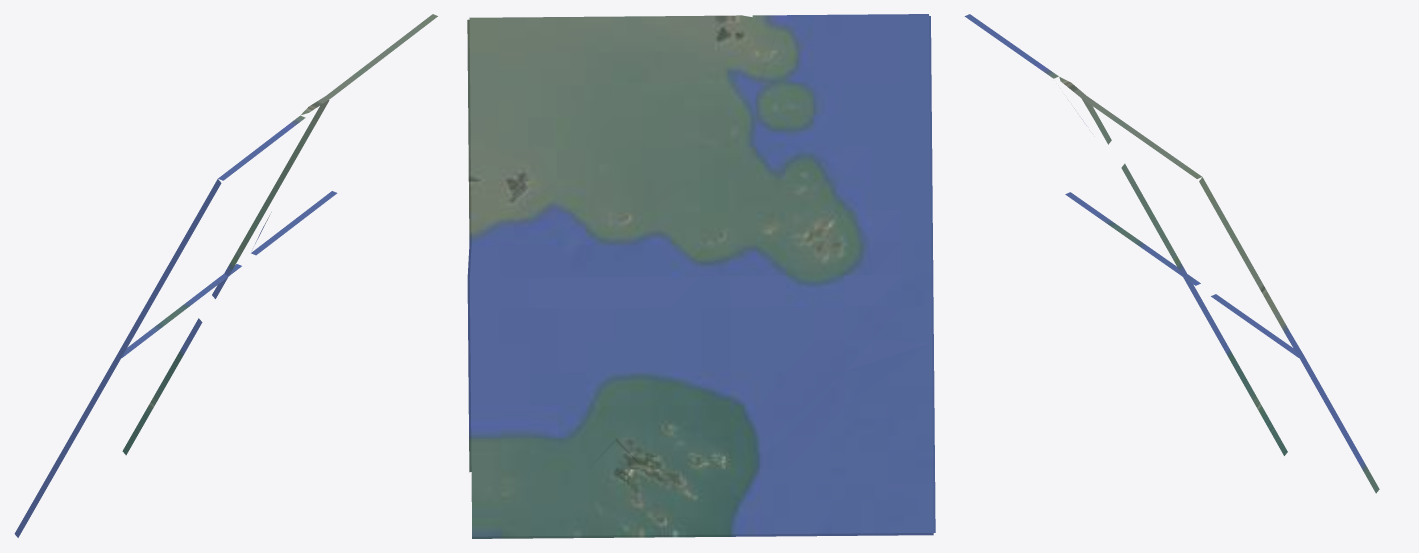
3 renders of one model, left to right at view 1: azimuth 30°, elevation 25°; view 2: azimuth 150°, elevation 25°; view 3: azimuth 270°, elevation 25°, orthographic. The views are drawn at different scales.
Bounding box in the file's own units: 39535 × 35177 × 34057.
1 material, 1 textured.
